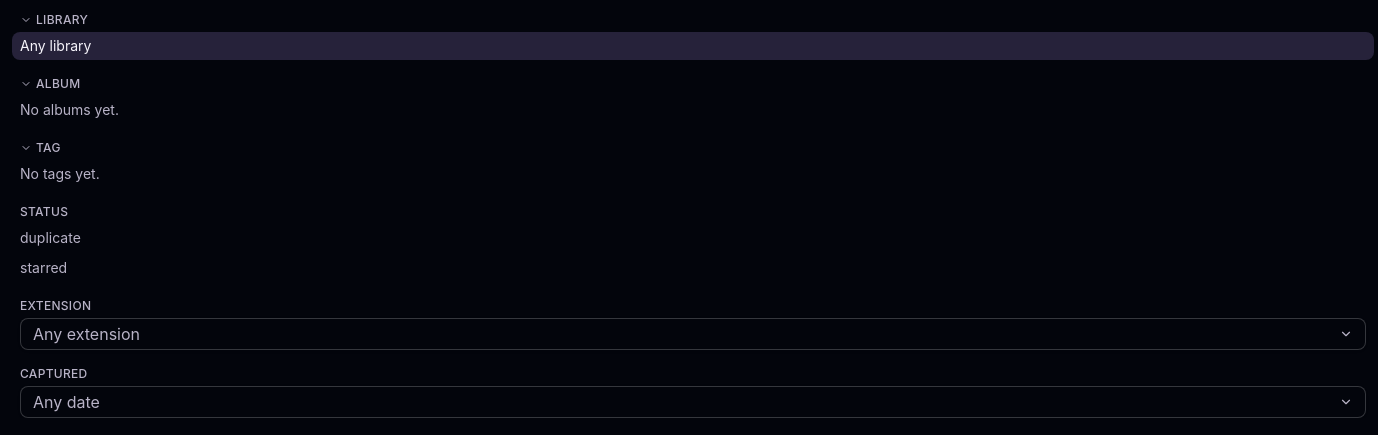
Test: SearchFilters › collapses library album and tag sections
Click the button "Library" at coordinates (62, 20), box [12,12,1374,28]
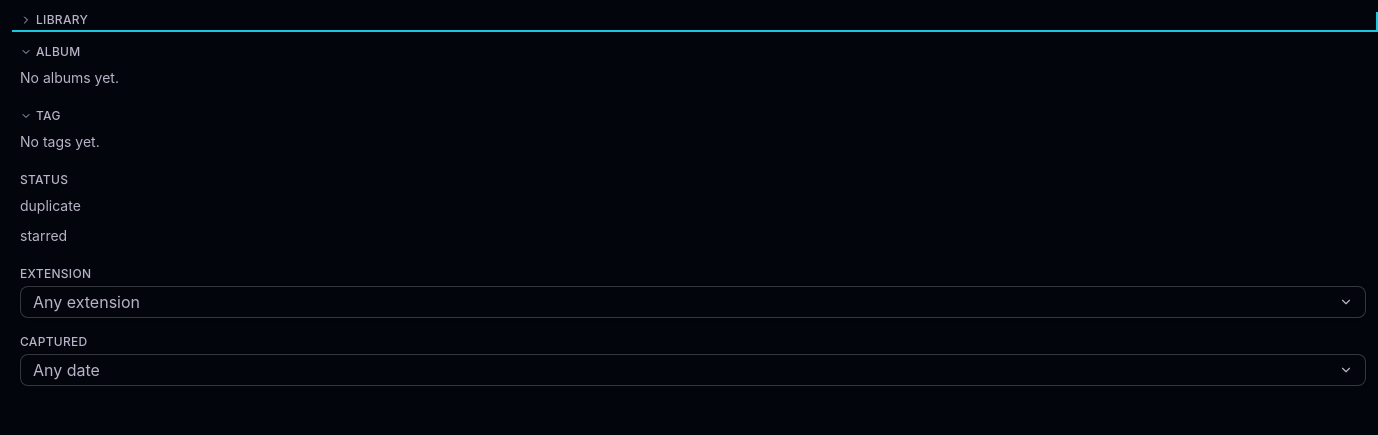
Result: the button "Library" is collapsed at [12,12,1374,28]
Result: the button "Any library" is gone
Click the button "Album" at coordinates (58, 52), box [12,44,1374,60]
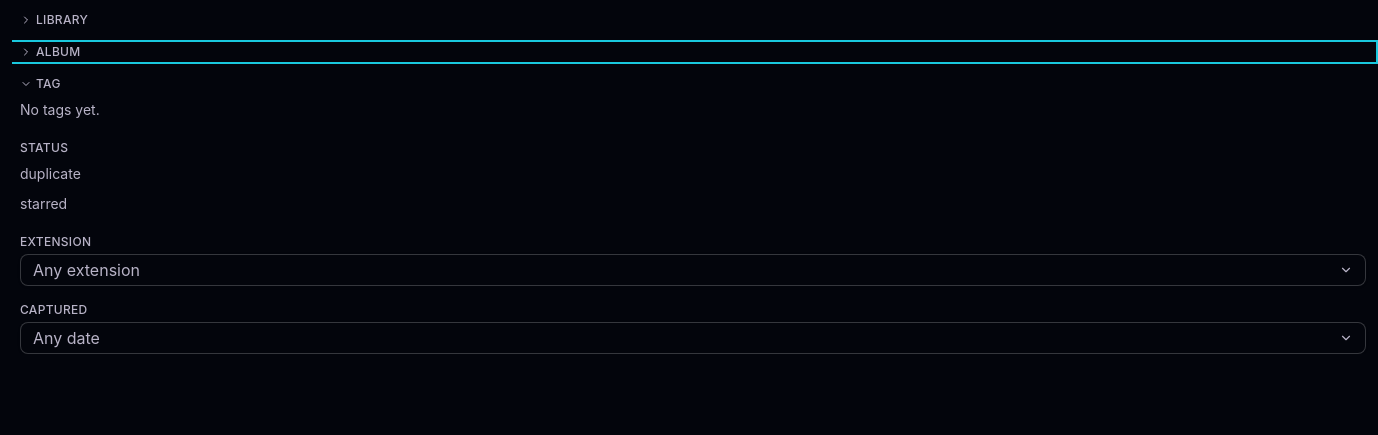
Result: the text "No albums yet." is gone
Click the button "Tag" at coordinates (26, 84), box [12,76,1374,92]
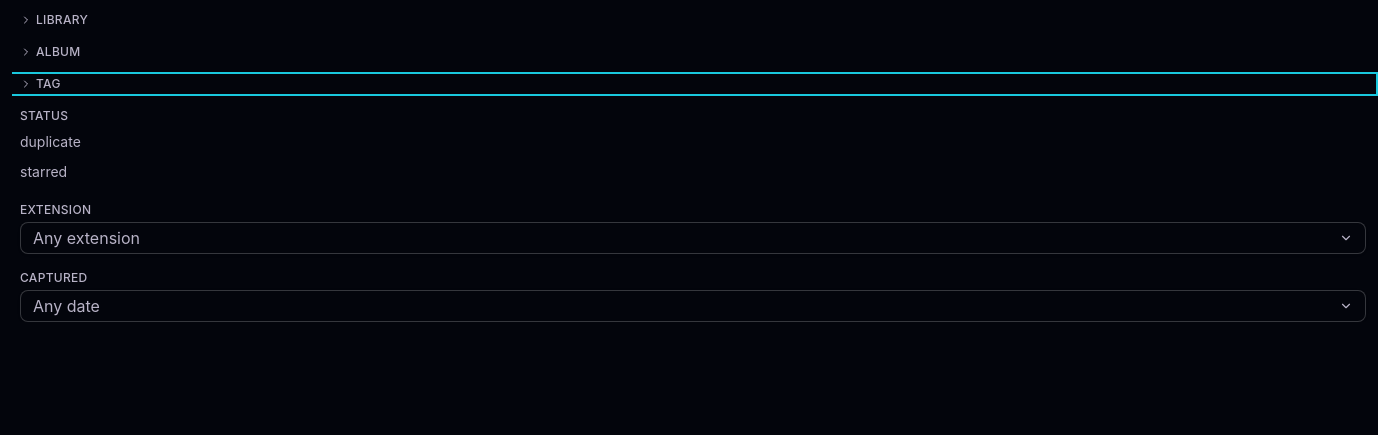
Result: the text "No tags yet." is gone
